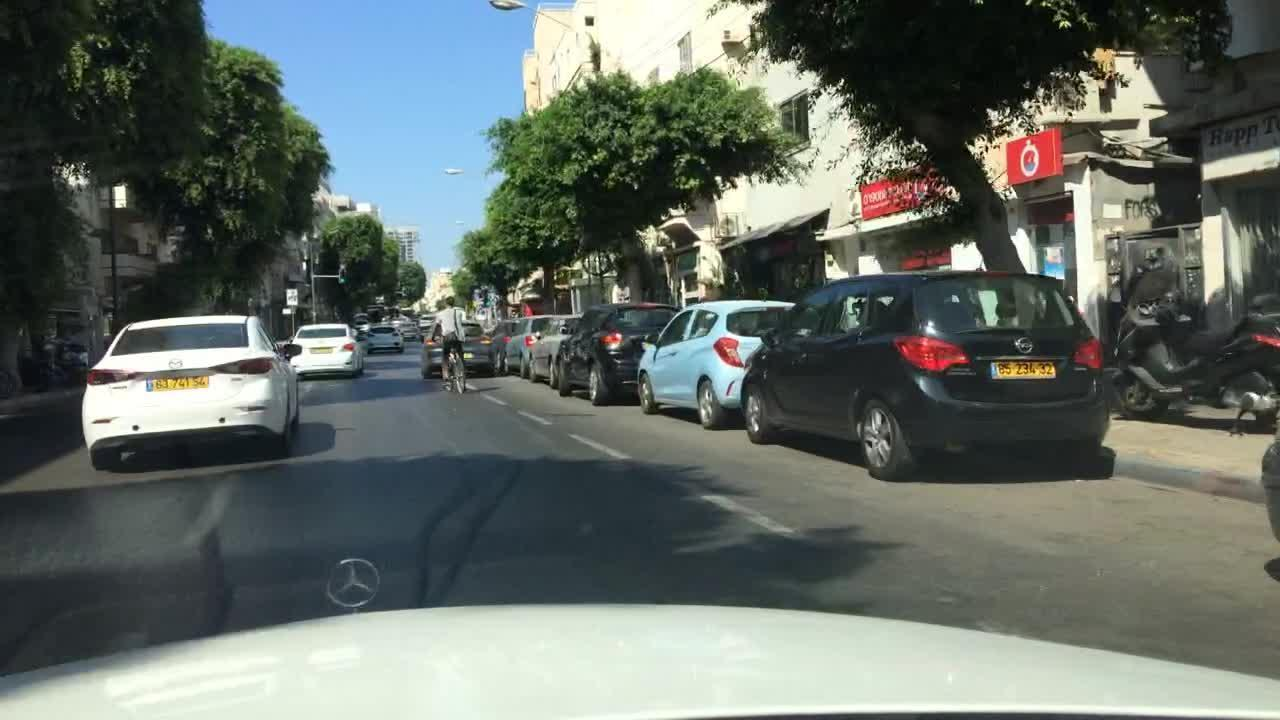Mazda: (165, 352, 187, 374)
Mercedes: (319, 550, 384, 612)
